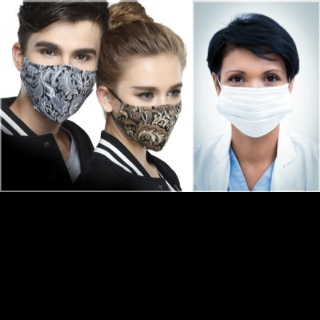with_mask: (21, 36, 98, 123), (220, 65, 289, 139), (116, 79, 183, 152)
